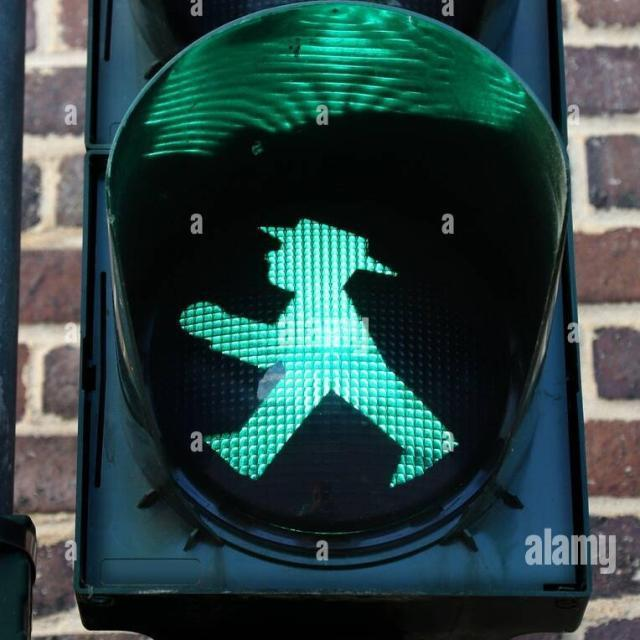geen-crossing: (222, 205, 434, 490)
